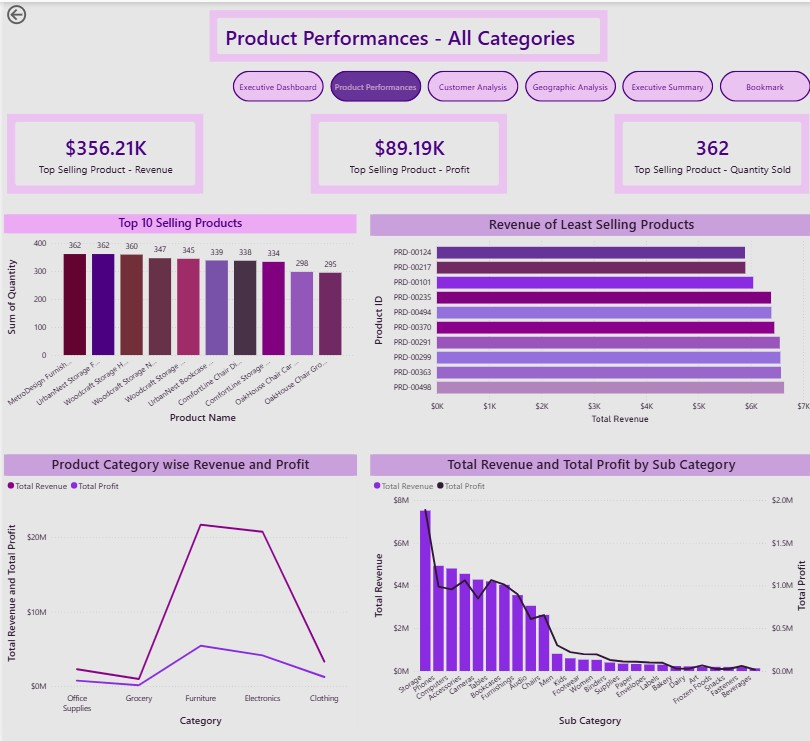

Layout of this report page (visuals, bound fields, positions):
{"tool":"powerbi","page":{"name":"Product Performances","canvas":[1280,1180],"ordinal":1},"visuals":[{"type":"cardVisual","fields":{"Data":["Sales.Total Revenue"]},"box":[0,172,320.3,136.4],"z":0},{"type":"cardVisual","fields":{"Data":["Sales.Total Profit"]},"box":[480.5,172,320.3,136.4],"z":1000},{"type":"barChart","title":"Revenue of Least Selling Products","fields":{"Category":["Product.Product ID"],"Y":["Sales.Total Revenue"]},"box":[580,336,700,336],"z":2000},{"type":"lineChart","title":"Product Category wise Revenue and Profit","fields":{"Category":["Product.Category"],"Y":["Sales.Total Revenue","Sales.Total Profit"]},"box":[0,716,558,436],"z":3000},{"type":"lineStackedColumnComboChart","fields":{"Category":["Product.Sub Category"],"Y":["Sales.Total Revenue"],"Y2":["Sales.Total Profit"]},"box":[580,716,700,436],"z":4000},{"type":"actionButton","box":[0,0,100,40],"z":5000},{"type":"cardVisual","fields":{"Data":["Sales.Dashboard Title Products"]},"box":[312.4,0,656.4,108.7],"z":6000},{"type":"cardVisual","fields":{"Data":["Sum(Sales.Quantity)"]},"box":[960.9,172,318.3,136.4],"z":7000},{"type":"pageNavigator","box":[361.8,108.7,917.4,49.4],"z":8000},{"type":"clusteredColumnChart","title":"Top 10 Selling Products","fields":{"Y":["Sum(Sales.Quantity)"],"Category":["Product.Product Name"]},"box":[0,336.1,557.6,336.1],"z":9000}]}

Visuals, with their boxes in screenshot pixels (x1, y1, x2, y2), scaled from the page's 1280x1180 canvas onto the 810x741 screenshot:
cardVisual - Sales.Total Revenue: 0,108,203,194
cardVisual - Sales.Total Profit: 304,108,507,194
"Revenue of Least Selling Products" barChart: 367,211,809,422
"Product Category wise Revenue and Profit" lineChart: 0,450,353,723
lineStackedColumnComboChart - Product.Sub Category x Sales.Total Revenue: 367,450,809,723
actionButton: 0,0,63,25
cardVisual - Sales.Dashboard Title Products: 198,0,613,68
cardVisual - Sum(Sales.Quantity): 608,108,809,194
pageNavigator: 229,68,809,99
"Top 10 Selling Products" clusteredColumnChart: 0,211,353,422
